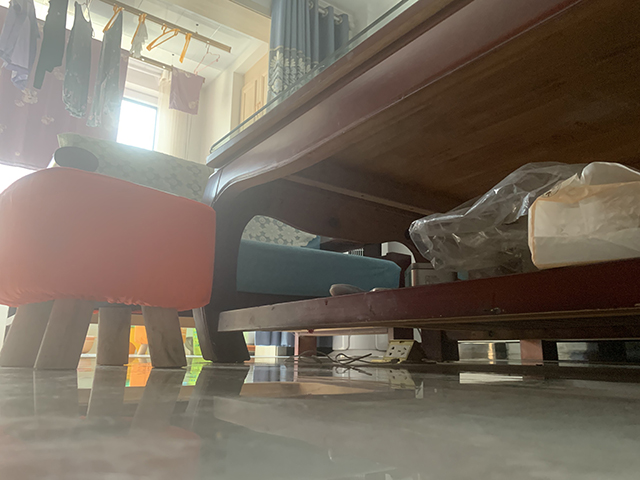stool: (1, 165, 218, 372)
table: (192, 1, 640, 365)
wire: (286, 349, 401, 367)
